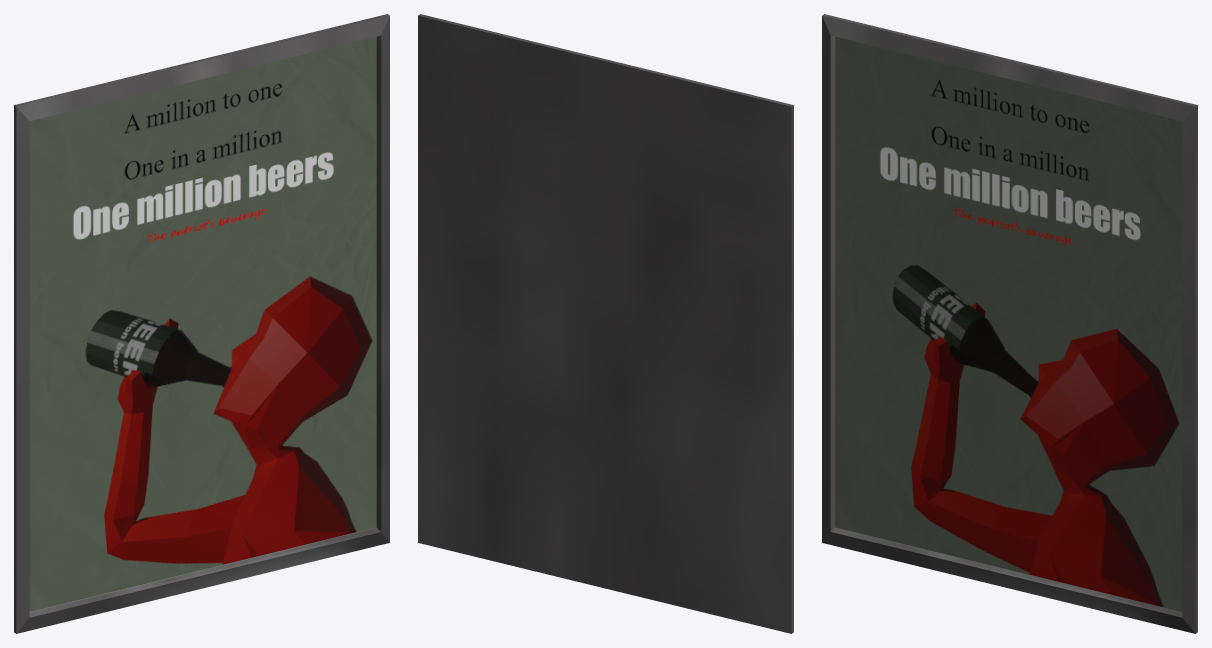
The model's file is MKU_poster_frame_beer poster.fbx.
3 renders of one model, left to right at view 1: azimuth 30°, elevation 25°; view 2: azimuth 150°, elevation 25°; view 3: azimuth 330°, elevation 25°, orthographic.
Visible parts, largest first — view 1: Plane, Cube; view 2: Cube; view 3: Plane, Cube.
Part boxes in pixels (left/top/right/bottom): Plane: left=29, top=36, right=376, bottom=611; Cube: left=14, top=14, right=389, bottom=633; Cube: left=418, top=14, right=793, bottom=633; Plane: left=835, top=36, right=1182, bottom=611; Cube: left=822, top=14, right=1197, bottom=633.
Bounding box in the file's own units: 615 × 829 × 13.32.
